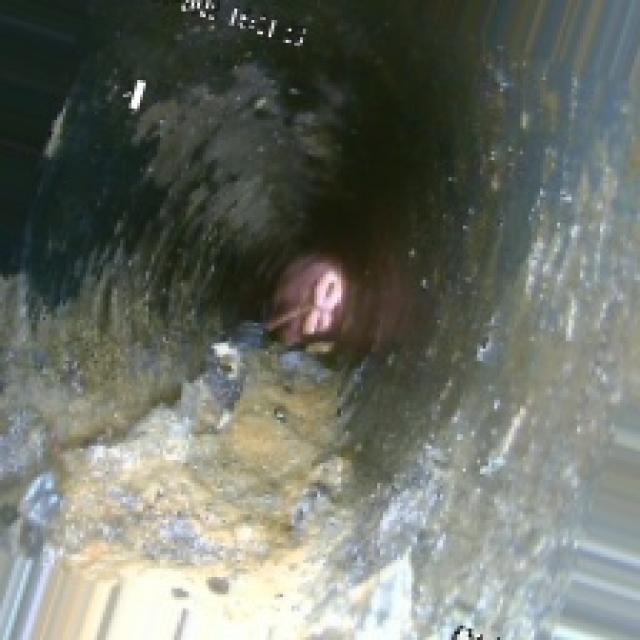sluge accumulation: (94, 343, 400, 634)
